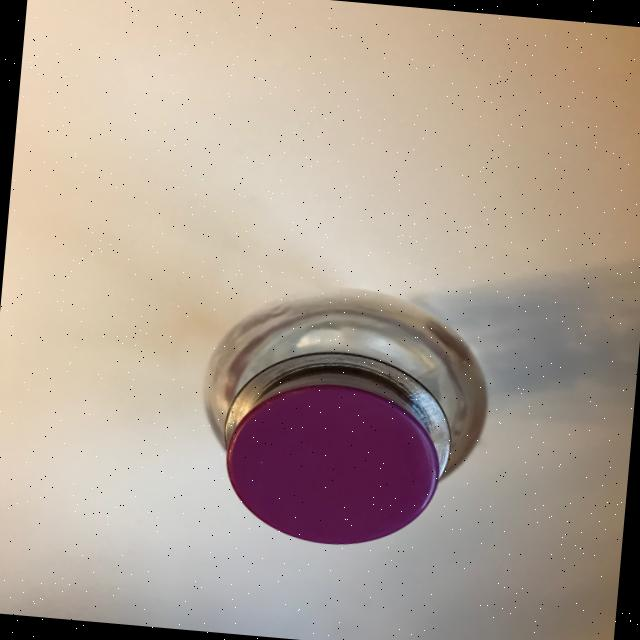glass: (189, 274, 497, 558)
